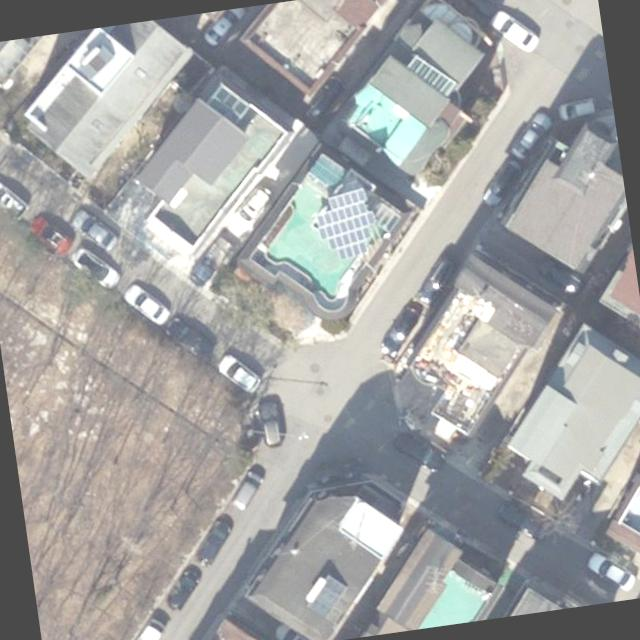solar: (312, 184, 382, 264), (300, 570, 354, 621)
